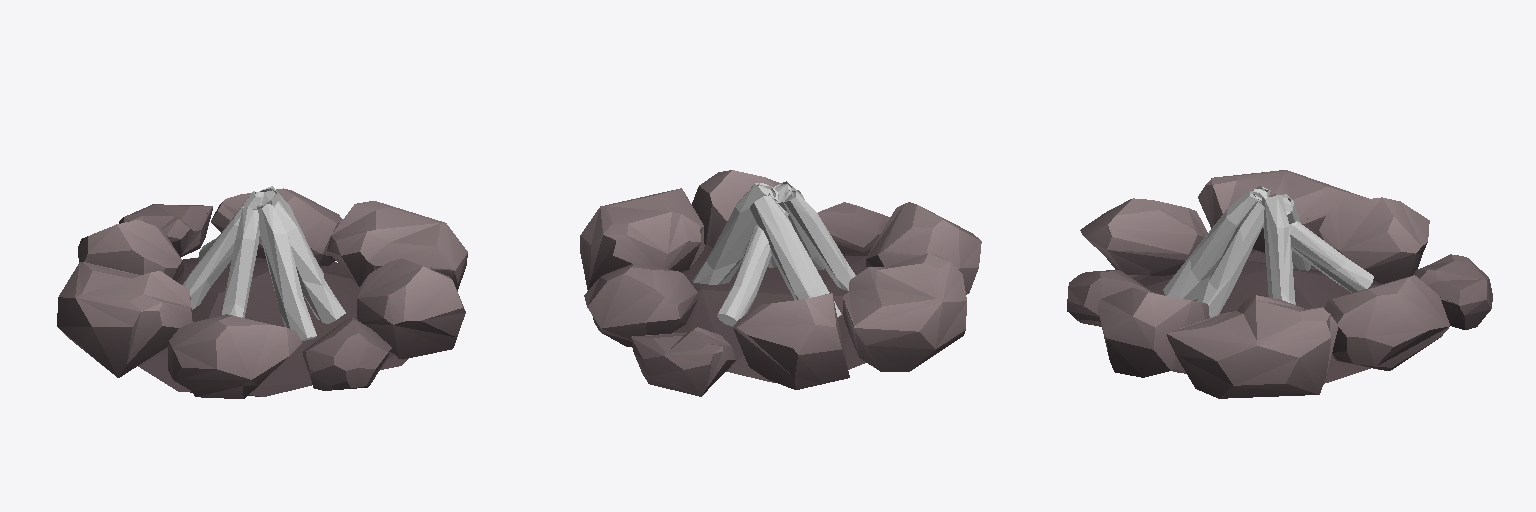
3 renders of one model, left to right at view 1: azimuth 30°, elevation 25°; view 2: azimuth 150°, elevation 25°; view 3: azimuth 270°, elevation 25°, orthographic.
Visible parts, largest first — view 1: Sphere.004, Cylinder.013, Plane; view 2: Sphere.004, Cylinder.013, Plane; view 3: Sphere.004, Cylinder.013, Plane.
Part boxes in pixels (left/top/right/bottom): Sphere.004: left=57, top=188, right=467, bottom=398; Cylinder.013: left=182, top=186, right=345, bottom=340; Plane: left=138, top=257, right=408, bottom=396; Sphere.004: left=580, top=170, right=981, bottom=396; Cylinder.013: left=692, top=181, right=855, bottom=326; Plane: left=671, top=245, right=866, bottom=382; Sphere.004: left=1067, top=170, right=1492, bottom=398; Cylinder.013: left=1163, top=186, right=1373, bottom=317; Plane: left=1128, top=251, right=1378, bottom=383.
Bounding box in the file's own units: 4.48 × 1.55 × 4.41.
3 materials, 1 textured.